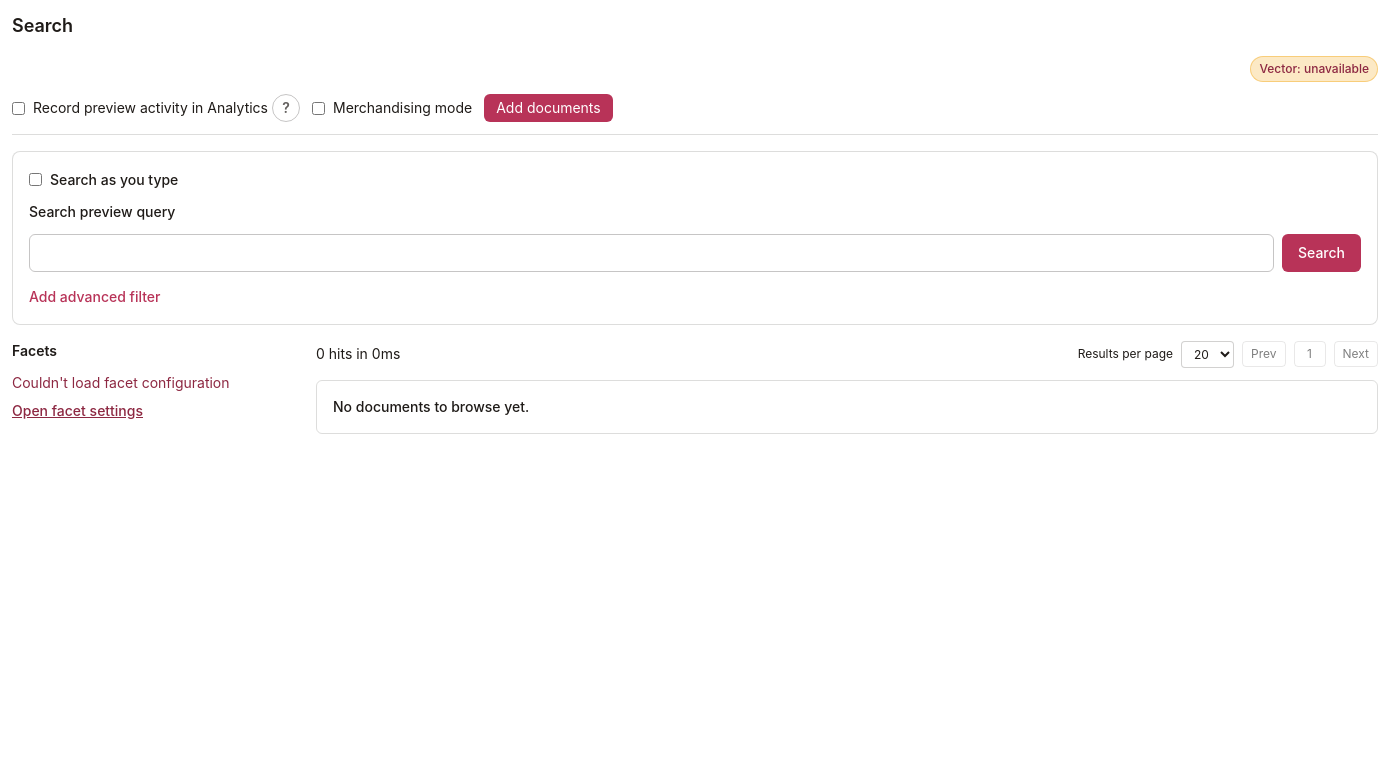
Test: SearchTab › passes the raw index name as the same-origin proxy route for tenant-scoped preview hits
The image size is (1390, 780).
Type "Blue Ridge" into the search field labelled "Search preview query" at coordinates (652, 252), box left=29, top=234, right=1274, bottom=272
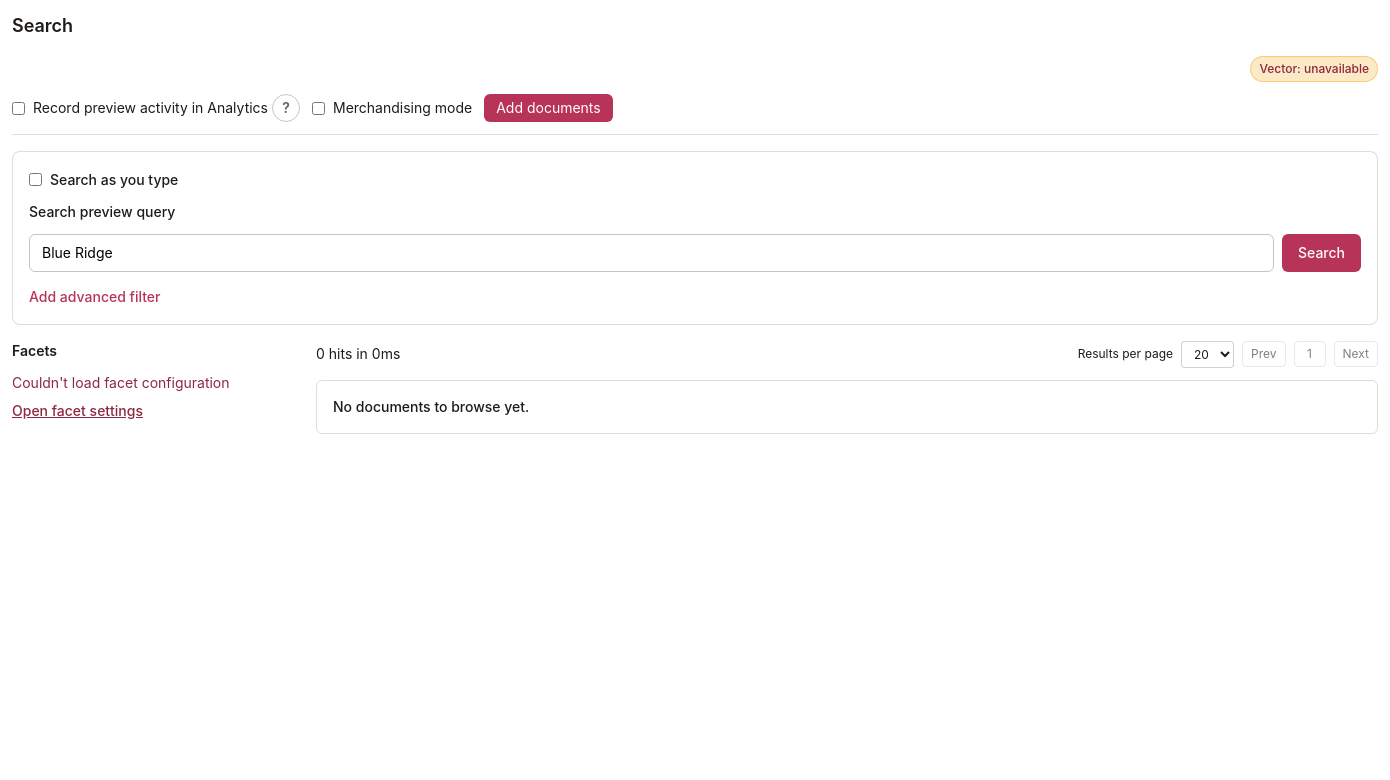
Press Enter in the search field labelled "Search preview query", box left=29, top=234, right=1274, bottom=272
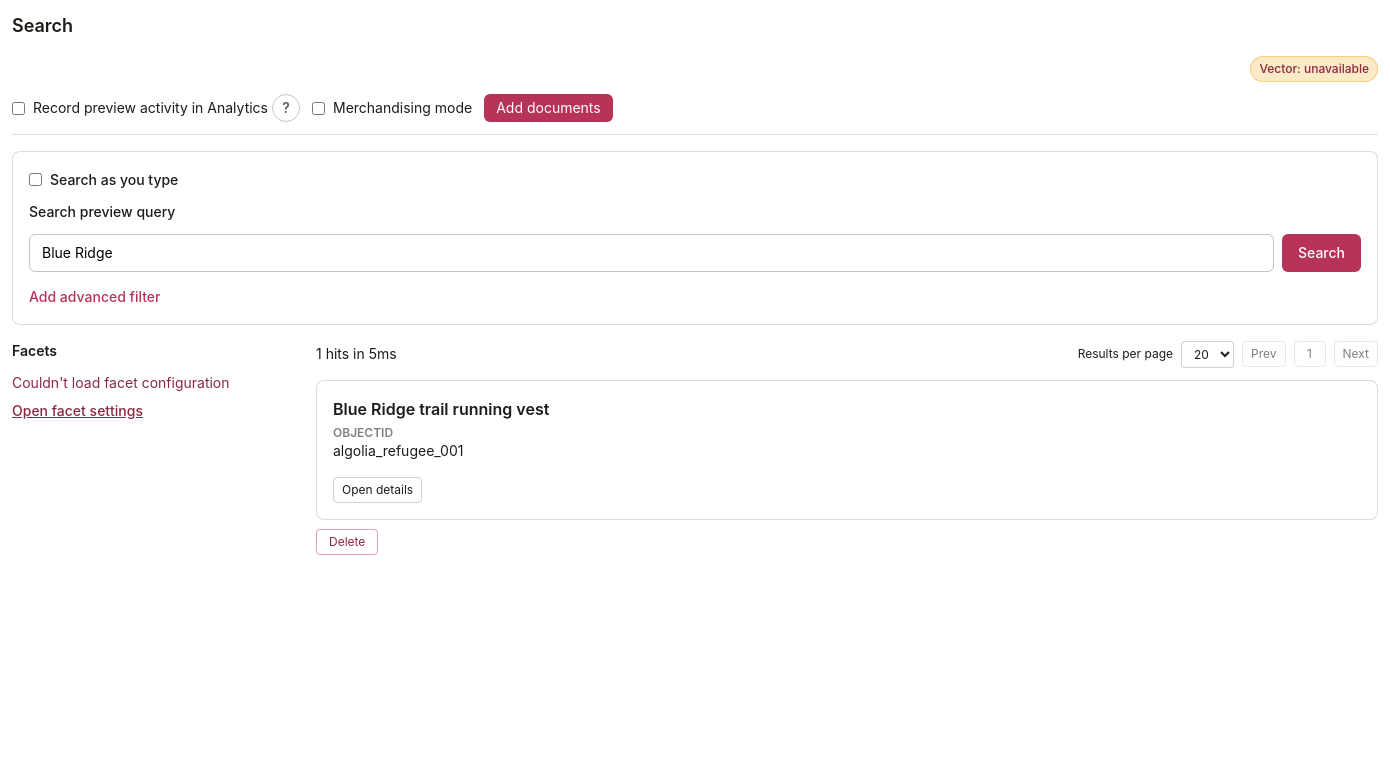
Now the text "Blue Ridge trail running vest" is shown, box left=333, top=398, right=549, bottom=418
